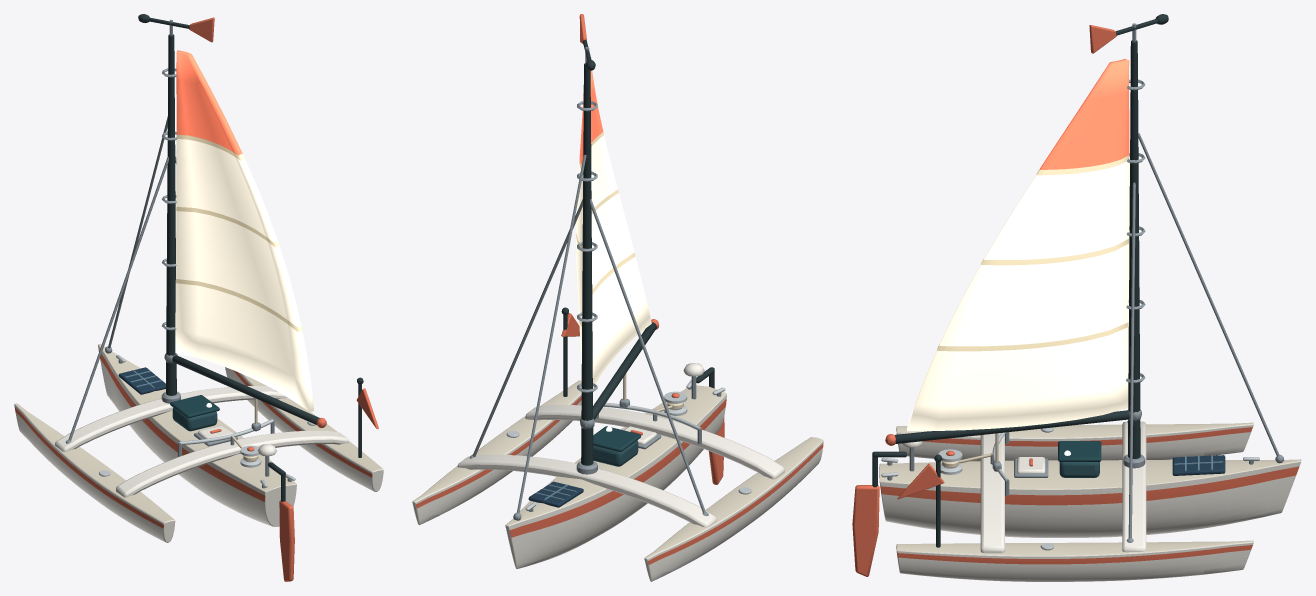
Rendered from boat.glb.
The picture shows the model from 3 angles, left to right: view 1: azimuth 30°, elevation 25°; view 2: azimuth 150°, elevation 25°; view 3: azimuth 270°, elevation 25°; orthographic projection. The views are drawn at different scales.
Parts seen in each view (by area): view 1: hull, sail, rudder, vane; view 2: hull, sail, rudder; view 3: hull, sail, rudder, vane.
Part boxes in pixels (x1,y1,x2,y2): hull: (14, 34, 383, 542); sail: (162, 50, 326, 431); rudder: (268, 462, 294, 581); vane: (138, 14, 214, 42); hull: (412, 63, 823, 581); sail: (576, 70, 659, 429); rudder: (696, 367, 724, 484); hull: (879, 40, 1301, 581); sail: (885, 59, 1145, 471); rudder: (852, 451, 906, 576); vane: (1089, 14, 1168, 53).
Bounding box in the file's own units: 1.54 × 3.08 × 2.22.
